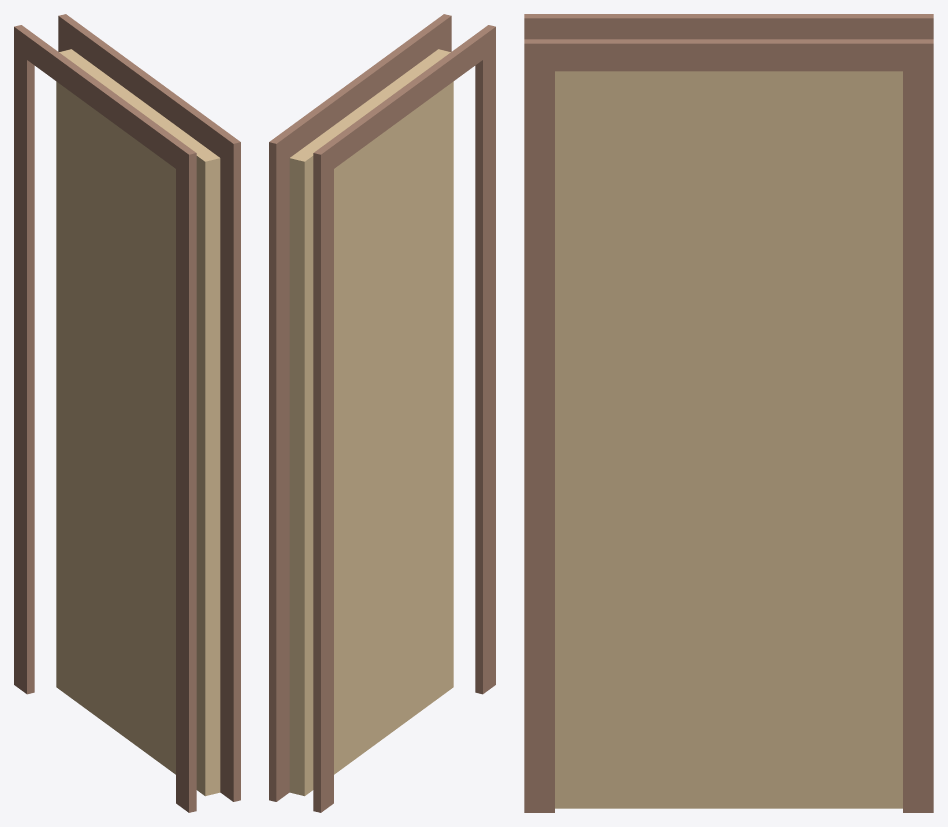
Rendered from 2OBrcmyk58NupXoVOHUvR4.glb.
3 views of the same model, side by side, from view 1: azimuth 30°, elevation 25°; view 2: azimuth 150°, elevation 25°; view 3: azimuth 270°, elevation 25° (orthographic). The views are drawn at different scales.
Visible parts, largest first — view 1: 2OBrcmyk58NupXoVOHUvR4; view 2: 2OBrcmyk58NupXoVOHUvR4; view 3: 2OBrcmyk58NupXoVOHUvR4.
Part boxes in pixels (box(x1,y1,x2,y2)): 2OBrcmyk58NupXoVOHUvR4: box(14, 14, 240, 812); 2OBrcmyk58NupXoVOHUvR4: box(269, 14, 495, 812); 2OBrcmyk58NupXoVOHUvR4: box(524, 14, 933, 812).
Size of the model in its own units: 0.174 by 2.11 by 1.02.
